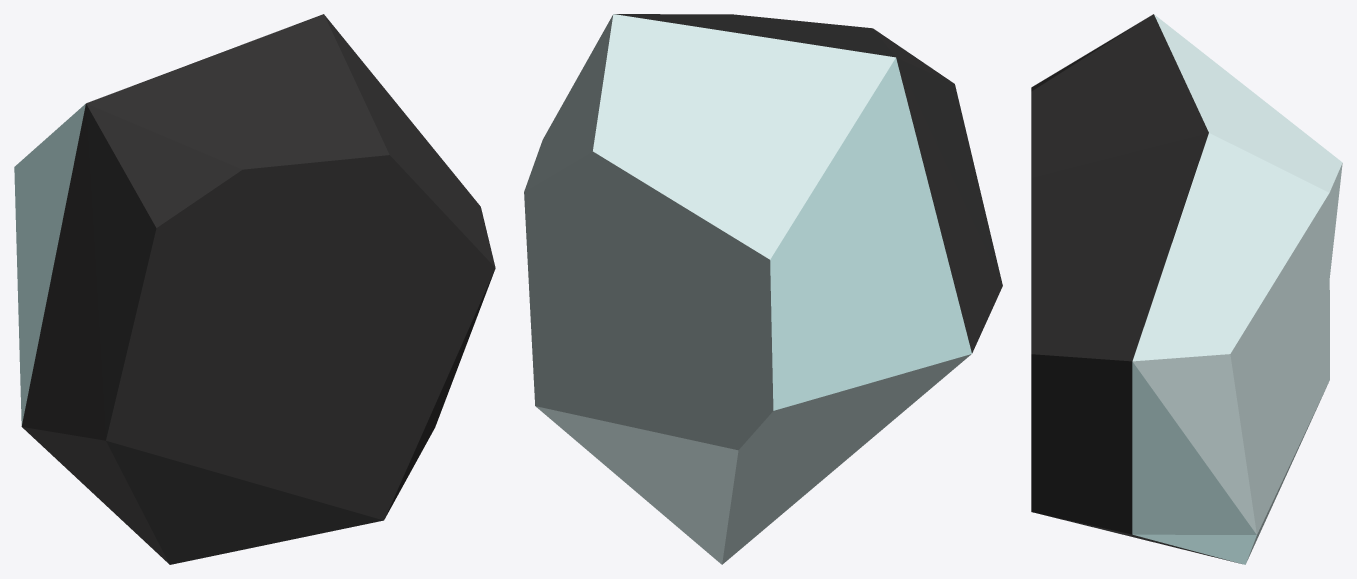
Rendered from winter_snow_rock_1.fbx.
3 renders of one model, left to right at view 1: azimuth 30°, elevation 25°; view 2: azimuth 150°, elevation 25°; view 3: azimuth 270°, elevation 25°, orthographic. The views are drawn at different scales.
Visible parts, largest first — view 1: Cylinder; view 2: Cylinder; view 3: Cylinder.
Boxes of the visible parts, x1,y1,x2,y2 form: Cylinder: (14, 14, 495, 564); Cylinder: (524, 14, 1002, 564); Cylinder: (1031, 14, 1342, 564).
Size of the model in its own units: 39.59 by 44.24 by 25.34.
